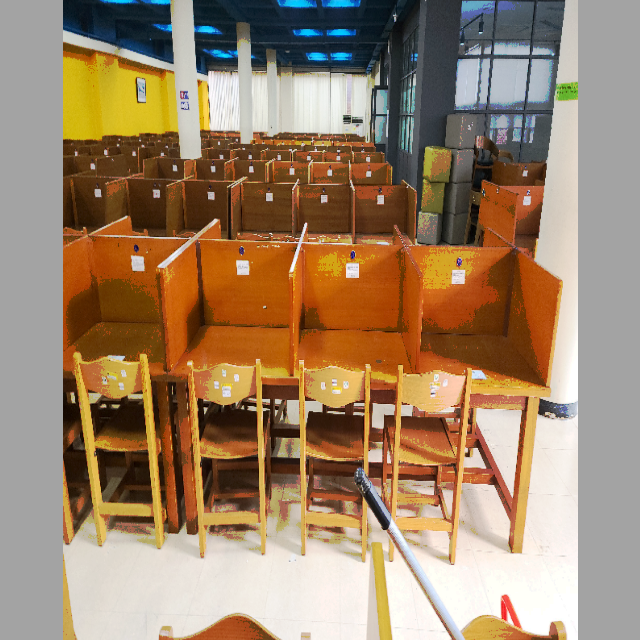empty: (421, 282, 537, 475), (297, 267, 408, 467), (180, 264, 289, 457)
